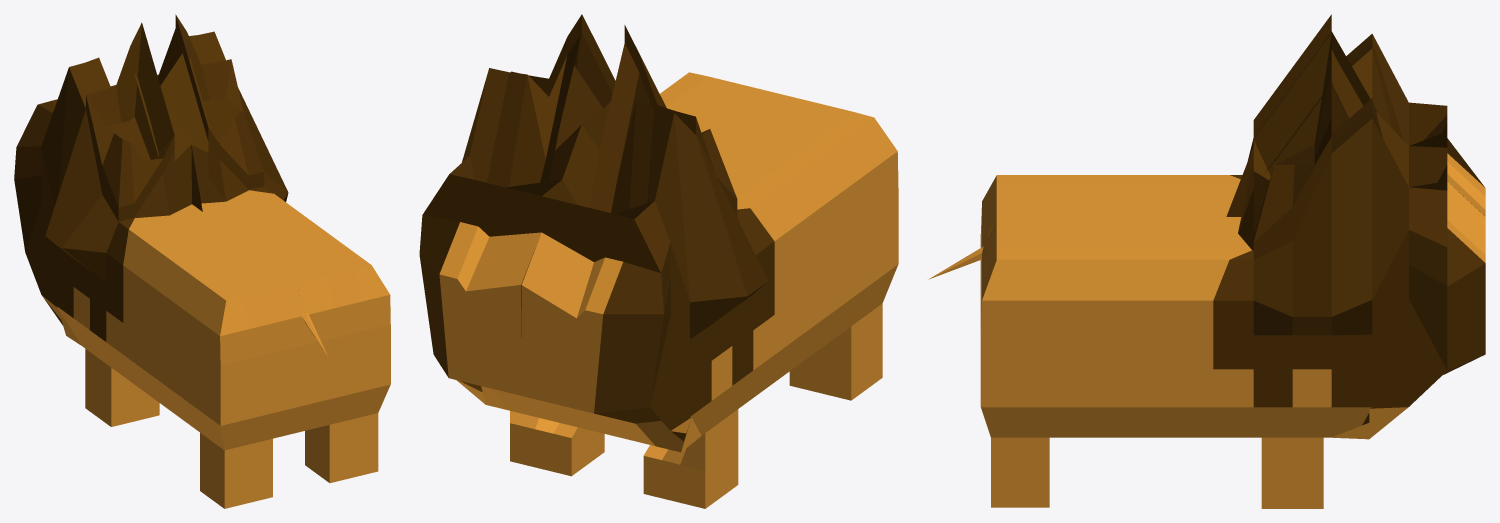
The model's file is lion.fbx.
The picture shows the model from 3 angles, left to right: view 1: azimuth 30°, elevation 25°; view 2: azimuth 150°, elevation 25°; view 3: azimuth 270°, elevation 25°; orthographic projection. The views are drawn at different scales.
Parts seen in each view (by area): view 1: Cube; view 2: Cube; view 3: Cube.
Part boxes in pixels (x1,y1,x2,y2): Cube: (14,14,390,508); Cube: (419,14,898,508); Cube: (928,14,1485,508).
Size of the model in its own units: 801 by 1245 by 1431.
